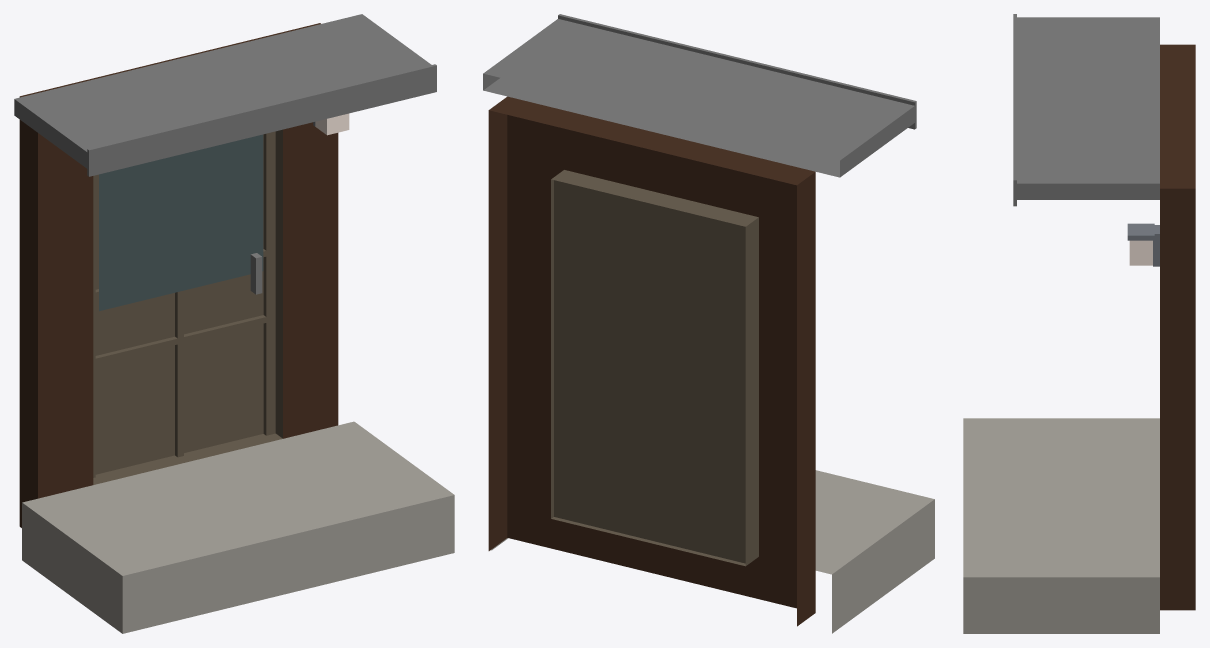
File: entrance_close.fbx
3 views of the same model, side by side, from view 1: azimuth 30°, elevation 25°; view 2: azimuth 150°, elevation 25°; view 3: azimuth 270°, elevation 25° (orthographic). The views are drawn at different scales.
Parts seen in each view (by area): view 1: a2015/800/entrance_close; view 2: a2015/800/entrance_close; view 3: a2015/800/entrance_close.
Part boxes in pixels (x1,y1,x2,y2): a2015/800/entrance_close: [14, 14, 454, 633]; a2015/800/entrance_close: [483, 14, 934, 633]; a2015/800/entrance_close: [963, 14, 1195, 633].
Size of the model in its own units: 2.2 by 2.82 by 1.3.
